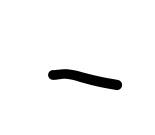minus: (48, 69, 122, 90)
